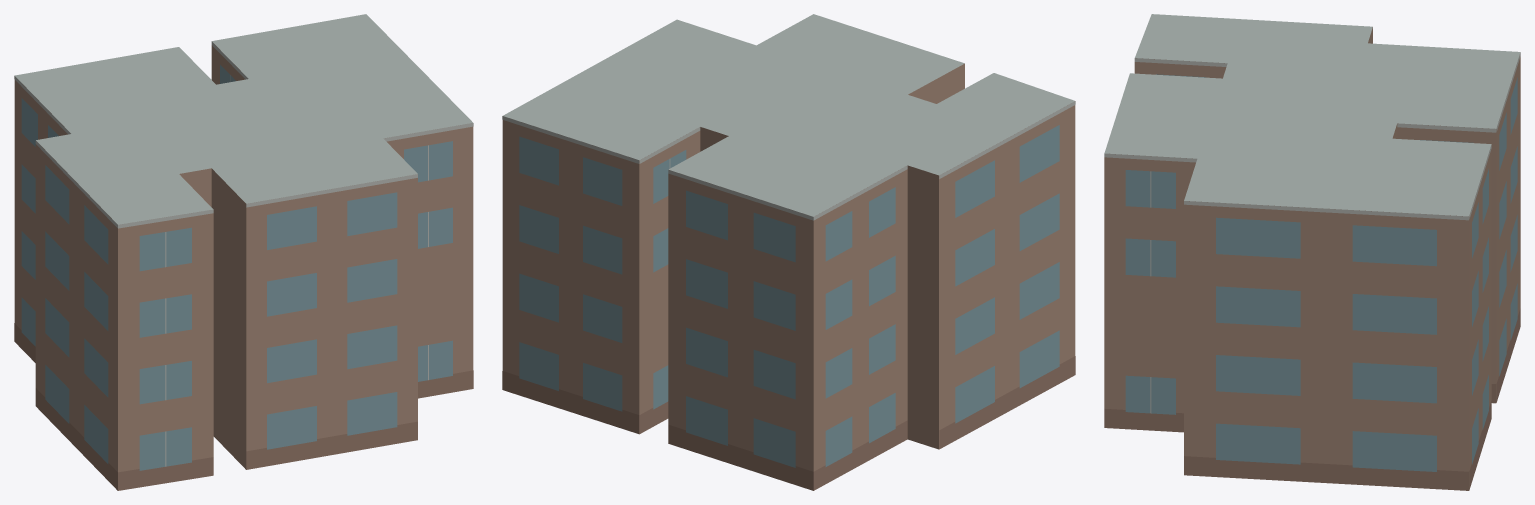
The model's file is survey-upis-32833911.glb.
3 views of the same model, side by side, from view 1: azimuth 30°, elevation 25°; view 2: azimuth 150°, elevation 25°; view 3: azimuth 270°, elevation 25° (orthographic). The views are drawn at different scales.
Visible parts, largest first — view 1: survey-upis-32833911.tmp; view 2: survey-upis-32833911.tmp; view 3: survey-upis-32833911.tmp.
Part boxes in pixels (bbox=[...]): survey-upis-32833911.tmp: bbox=[14, 14, 473, 490]; survey-upis-32833911.tmp: bbox=[502, 14, 1075, 490]; survey-upis-32833911.tmp: bbox=[1104, 14, 1520, 490].
Size of the model in its own units: 27.38 by 17.3 by 23.79.
